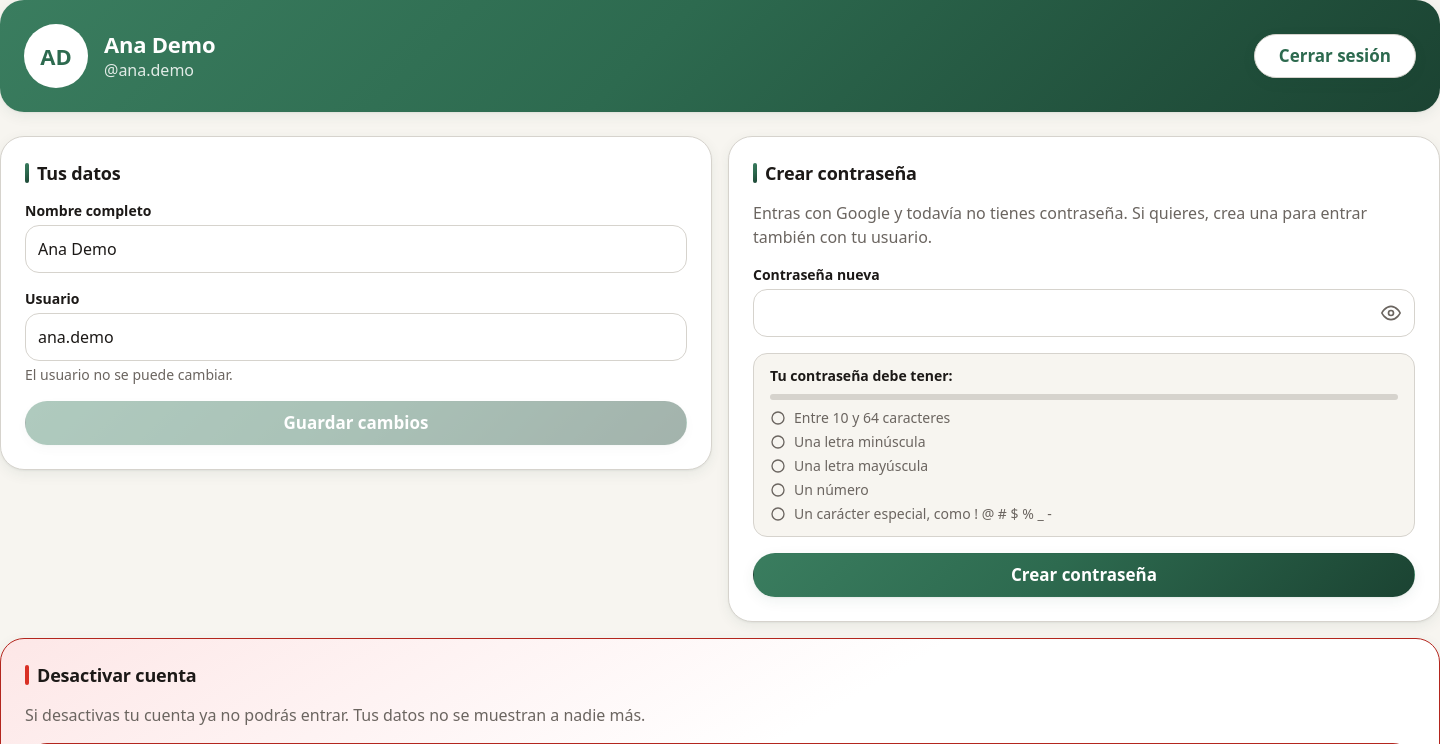
Test: Account › an account made with Google › creates its first password without asking for an old one
expect the heading "Crear contraseña" is shown: met, box top-left (765, 161), bottom-right (917, 185)
Type "Otra-clave-456!" into the password field labelled "Contraseña nueva" at (1062, 313), box top-left (754, 290), bottom-right (1369, 336)
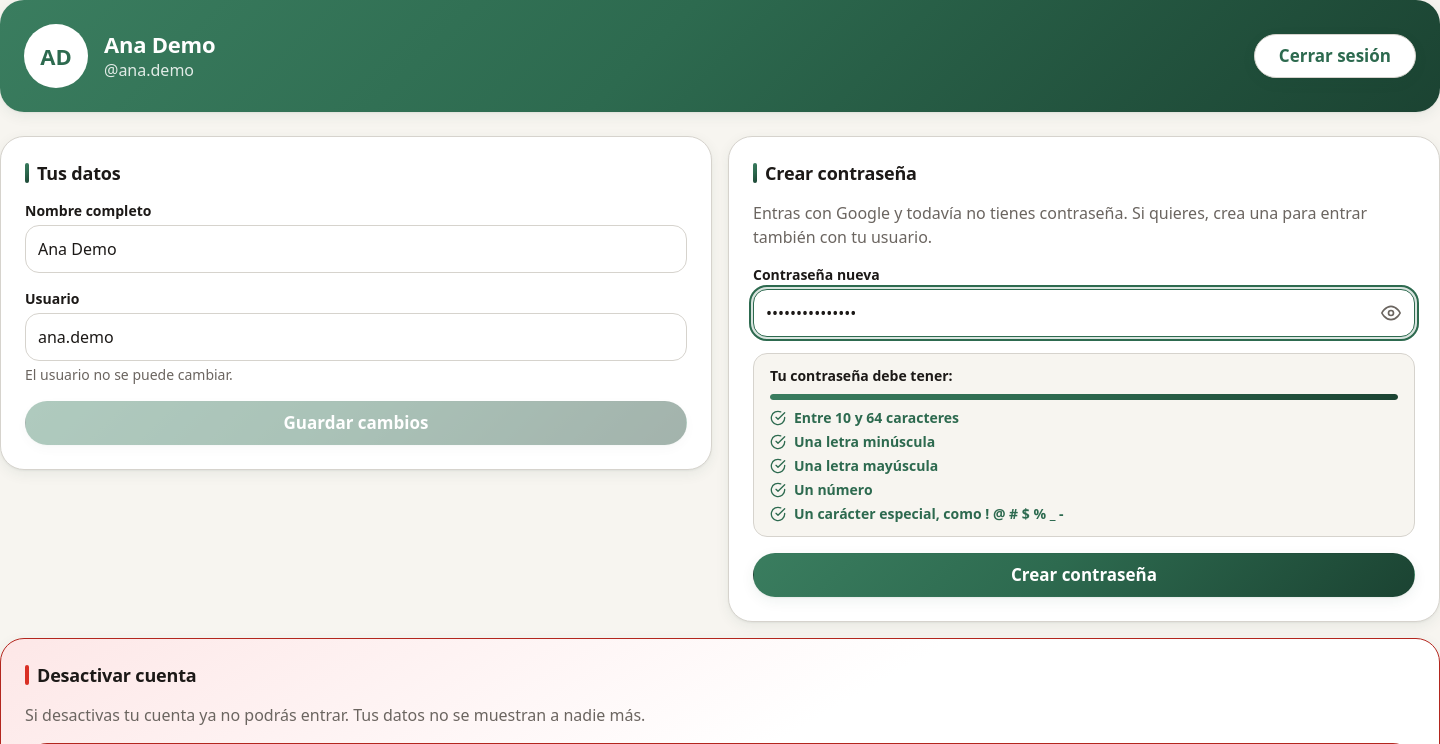
Click the button "Crear contraseña" at (1084, 575), box top-left (753, 553), bottom-right (1415, 597)
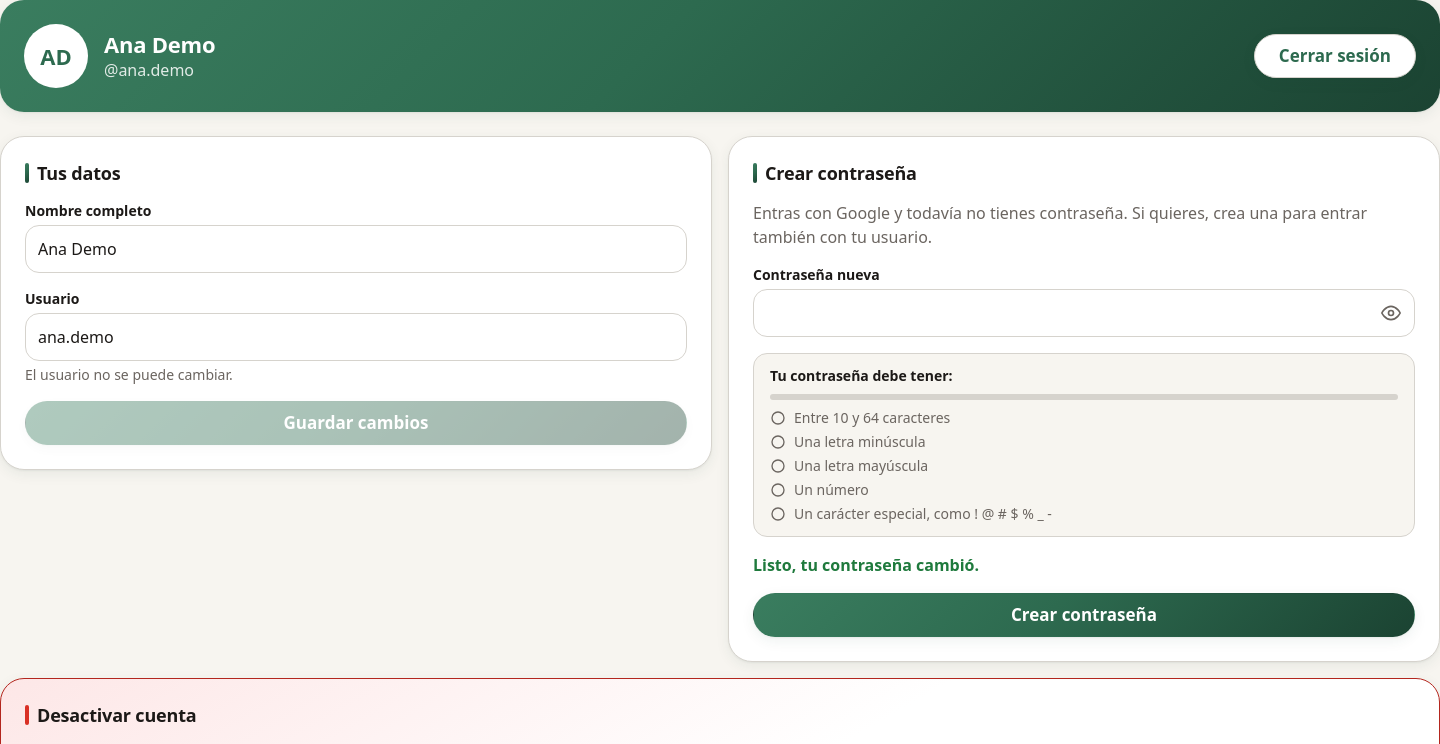
expect the text "Listo, tu contraseña cambió." is shown: met, box top-left (753, 554), bottom-right (979, 576)
